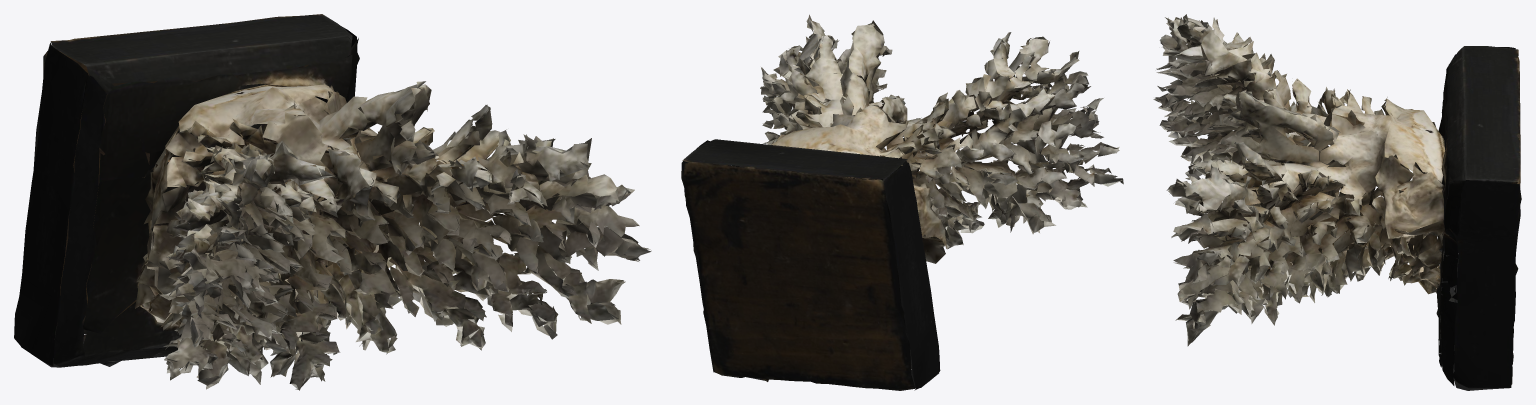
Rendered from Hyacinthus_LOD1.fbx.
3 renders of one model, left to right at view 1: azimuth 30°, elevation 25°; view 2: azimuth 150°, elevation 25°; view 3: azimuth 270°, elevation 25°, orthographic. The views are drawn at different scales.
Visible parts, largest first — view 1: Hyacinthus_LOD1; view 2: Hyacinthus_LOD1; view 3: Hyacinthus_LOD1.
Part boxes in pixels (bbox=[...]): Hyacinthus_LOD1: bbox=[14, 14, 651, 390]; Hyacinthus_LOD1: bbox=[681, 14, 1123, 390]; Hyacinthus_LOD1: bbox=[1153, 14, 1521, 390].
Bounding box in the file's own units: 99.58 × 72.16 × 84.5.
Materials: 1 (1 with a texture image).
